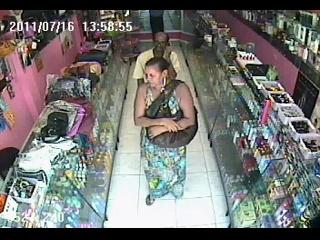Normal: (134, 56, 198, 204), (132, 31, 180, 86), (76, 50, 108, 66)
